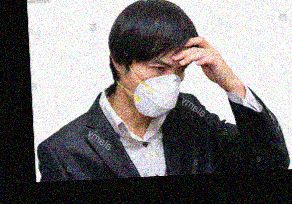with_mask: (123, 57, 185, 117)
